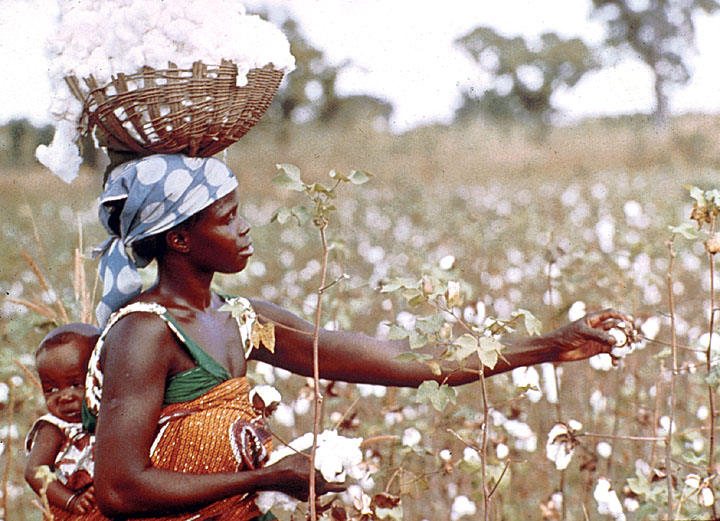human: (94, 146, 628, 521), (19, 321, 125, 521)
